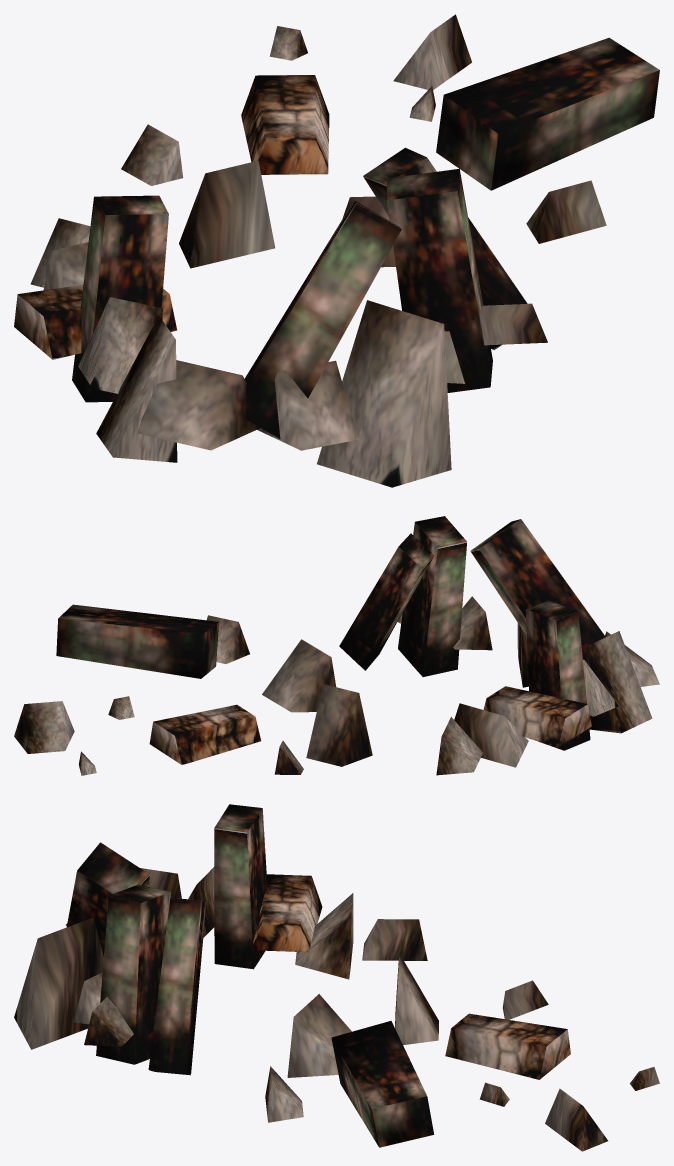
The model's file is thm_dant_large_rock_hut_dest_s01_l2.fbx.
The picture shows the model from 3 angles, top to bottom: view 1: azimuth 30°, elevation 25°; view 2: azimuth 150°, elevation 25°; view 3: azimuth 270°, elevation 25°; orthographic projection. The views are drawn at different scales.
Visible parts, largest first — view 1: mesh_node; view 2: mesh_node; view 3: mesh_node.
Boxes of the visible parts, x1,y1,x2,y2 form: mesh_node: (14, 14, 659, 487); mesh_node: (14, 516, 659, 775); mesh_node: (14, 804, 659, 1151).
Size of the model in its own units: 19.09 by 6.43 by 19.92.
Materials: 1 (1 with a texture image).
